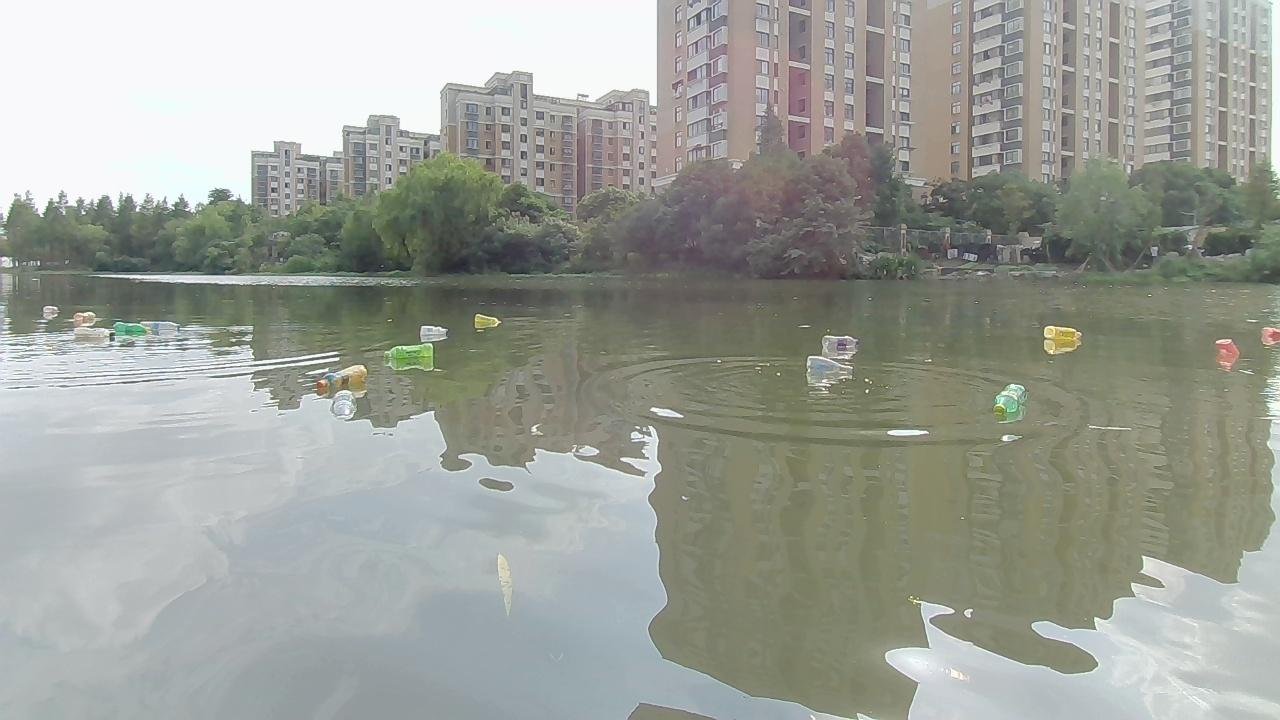bottle: (314, 361, 372, 385), (806, 357, 858, 381), (379, 344, 435, 366), (110, 320, 158, 342), (991, 386, 1022, 417), (72, 325, 119, 345), (820, 337, 864, 357), (328, 390, 359, 417), (1046, 327, 1086, 346), (146, 319, 182, 336), (420, 322, 450, 340), (1216, 336, 1234, 363), (75, 308, 99, 327), (475, 309, 499, 327), (1261, 320, 1279, 341), (39, 304, 61, 318)
